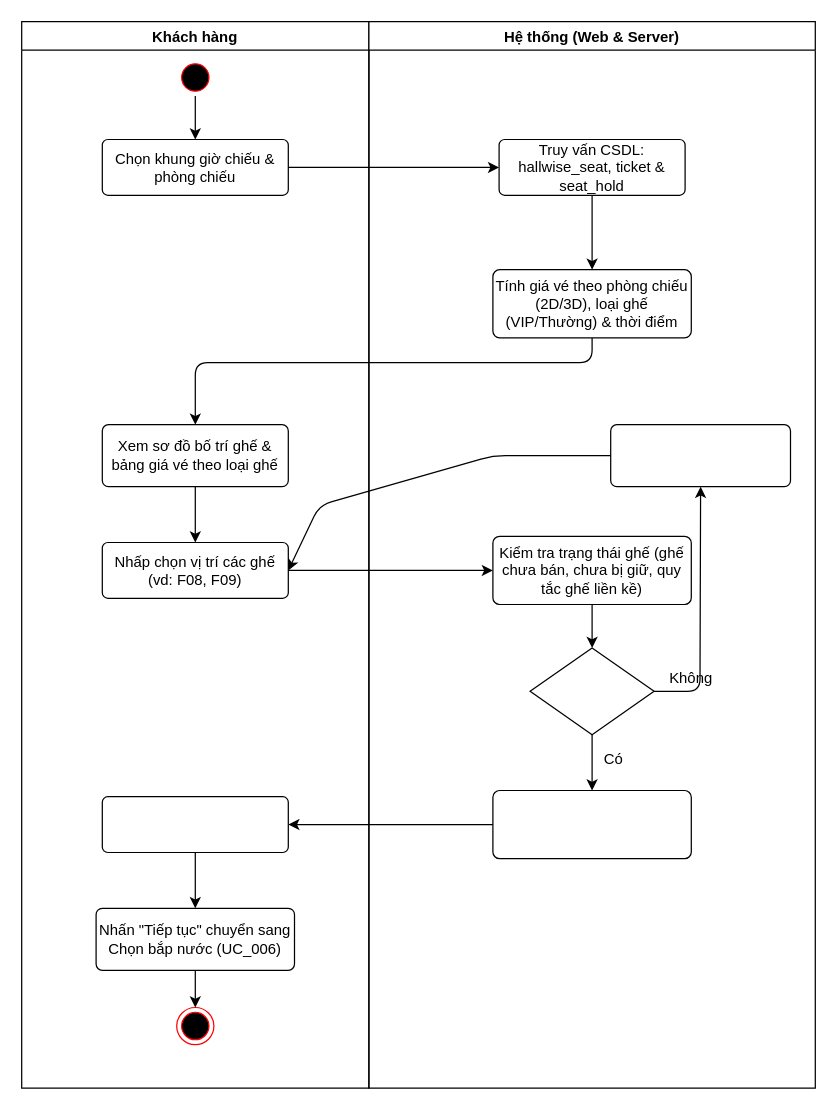
Image size: 837x1110. Some labels were removed from this diagram. Here are the shapes that lost their labels. From the top down, the centre of each, then its label:
At point 699,455: "Cảnh báo: Ghế đã có người chọn / để lại ghế đơn".
At point 591,691: "Ghế hợp lệ?".
At point 194,823: "Xem lại các ghế đã chọn & tổng tiền vé".
At point 591,824: "Cập nhật Redux Cart: Ghi nhận danh sách ghế & tính tổng tiền vé".
